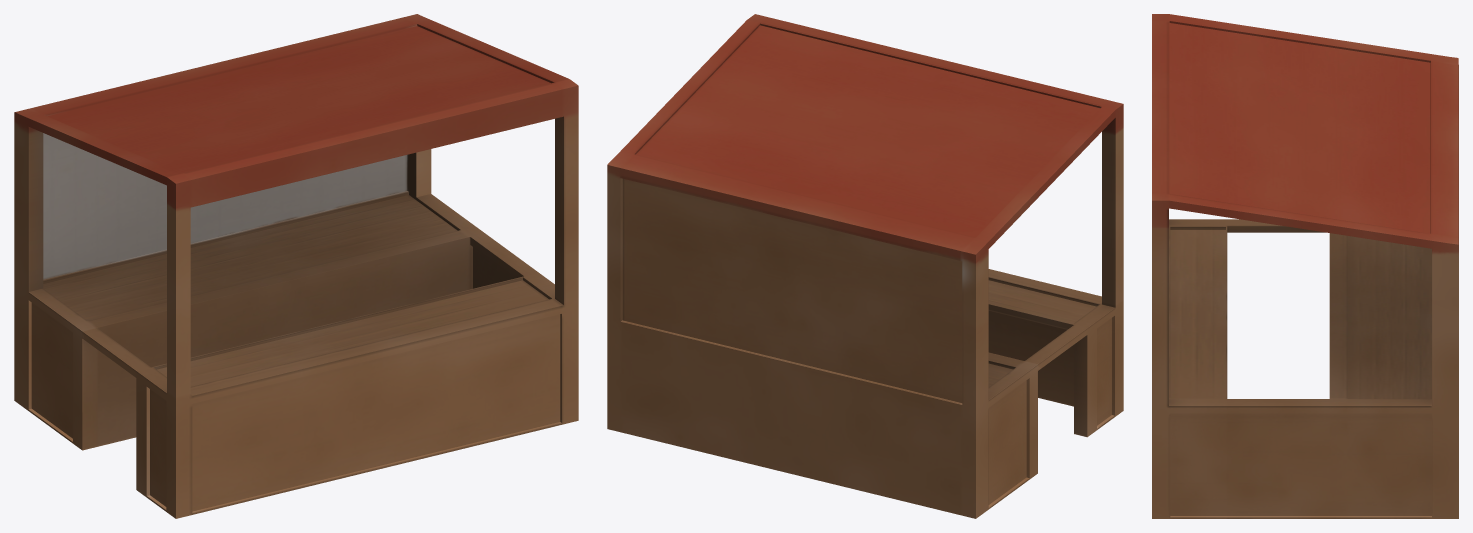
Rendered from Stall_Sketchfab.fbx.
3 views of the same model, side by side, from view 1: azimuth 30°, elevation 25°; view 2: azimuth 150°, elevation 25°; view 3: azimuth 270°, elevation 25° (orthographic). The views are drawn at different scales.
Parts seen in each view (by area): view 1: Market_Stall; view 2: Market_Stall; view 3: Market_Stall.
Boxes of the visible parts, <box> form: Market_Stall: <box>14,14,578,518</box>; Market_Stall: <box>607,14,1123,518</box>; Market_Stall: <box>1152,14,1458,518</box>.
Bounding box in the file's own units: 26 × 20.68 × 18.06.
1 material, 1 textured.
